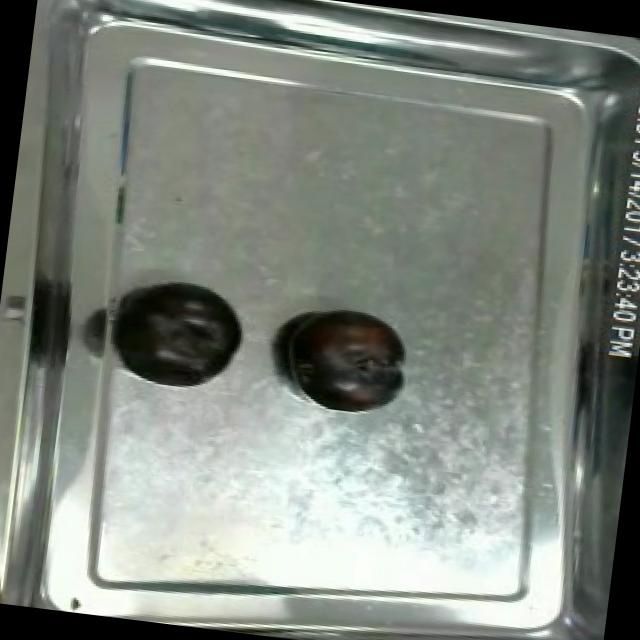Fruit: (275, 296, 419, 415), (111, 272, 252, 384), (0, 539, 17, 604)
